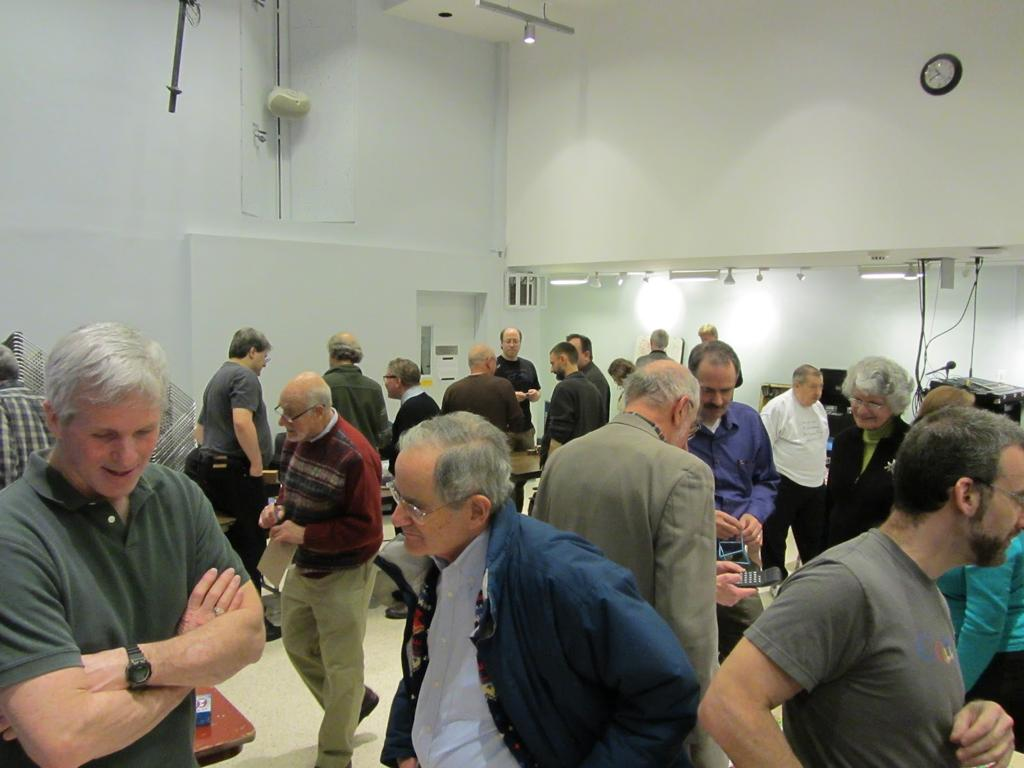face: (62, 401, 159, 495), (955, 460, 1024, 560), (393, 468, 467, 557), (696, 369, 734, 418), (848, 387, 890, 428), (277, 400, 316, 441), (797, 378, 822, 405), (247, 345, 267, 374), (384, 367, 400, 394), (567, 341, 583, 367), (502, 333, 520, 356), (550, 355, 564, 379), (701, 334, 715, 350)
